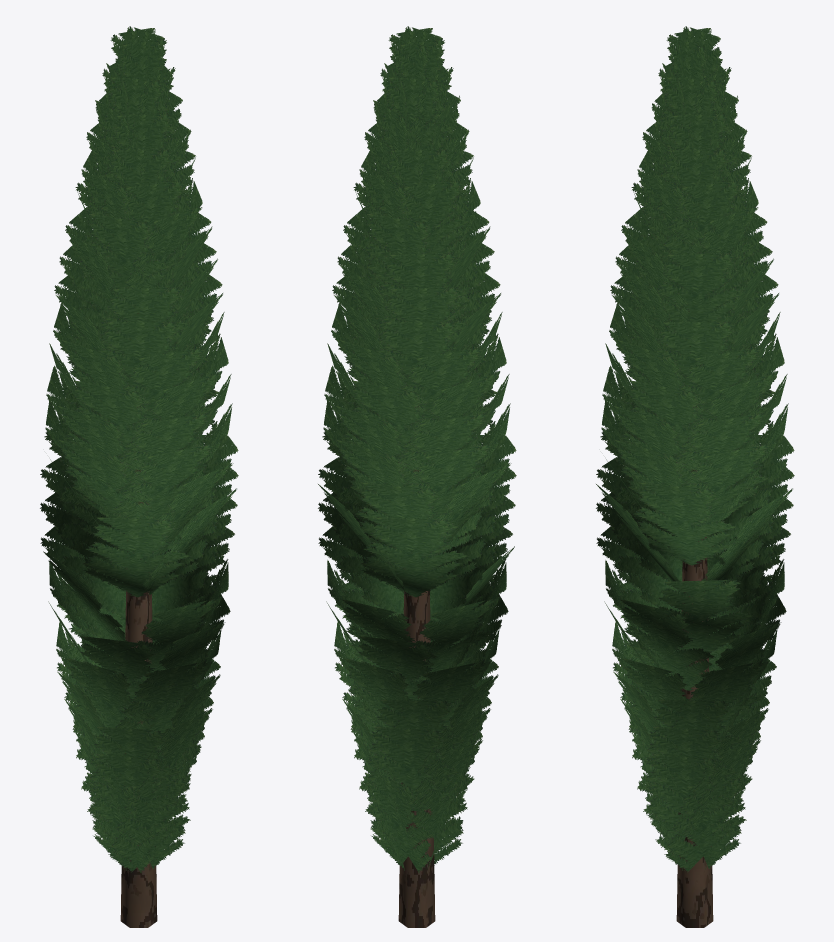
The model's file is cypress1_lod0.fbx.
3 views of the same model, side by side, from view 1: azimuth 30°, elevation 25°; view 2: azimuth 150°, elevation 25°; view 3: azimuth 270°, elevation 25° (orthographic).
Visible parts, largest first — view 1: cypress1_lod0; view 2: cypress1_lod0; view 3: cypress1_lod0.
Part boxes in pixels (x1,y1,x2,y2): cypress1_lod0: (40, 26, 238, 927); cypress1_lod0: (318, 26, 516, 927); cypress1_lod0: (596, 26, 794, 927).
Bounding box in the file's own units: 2.99 × 11.76 × 3.
Materials: 2 (2 with a texture image).
